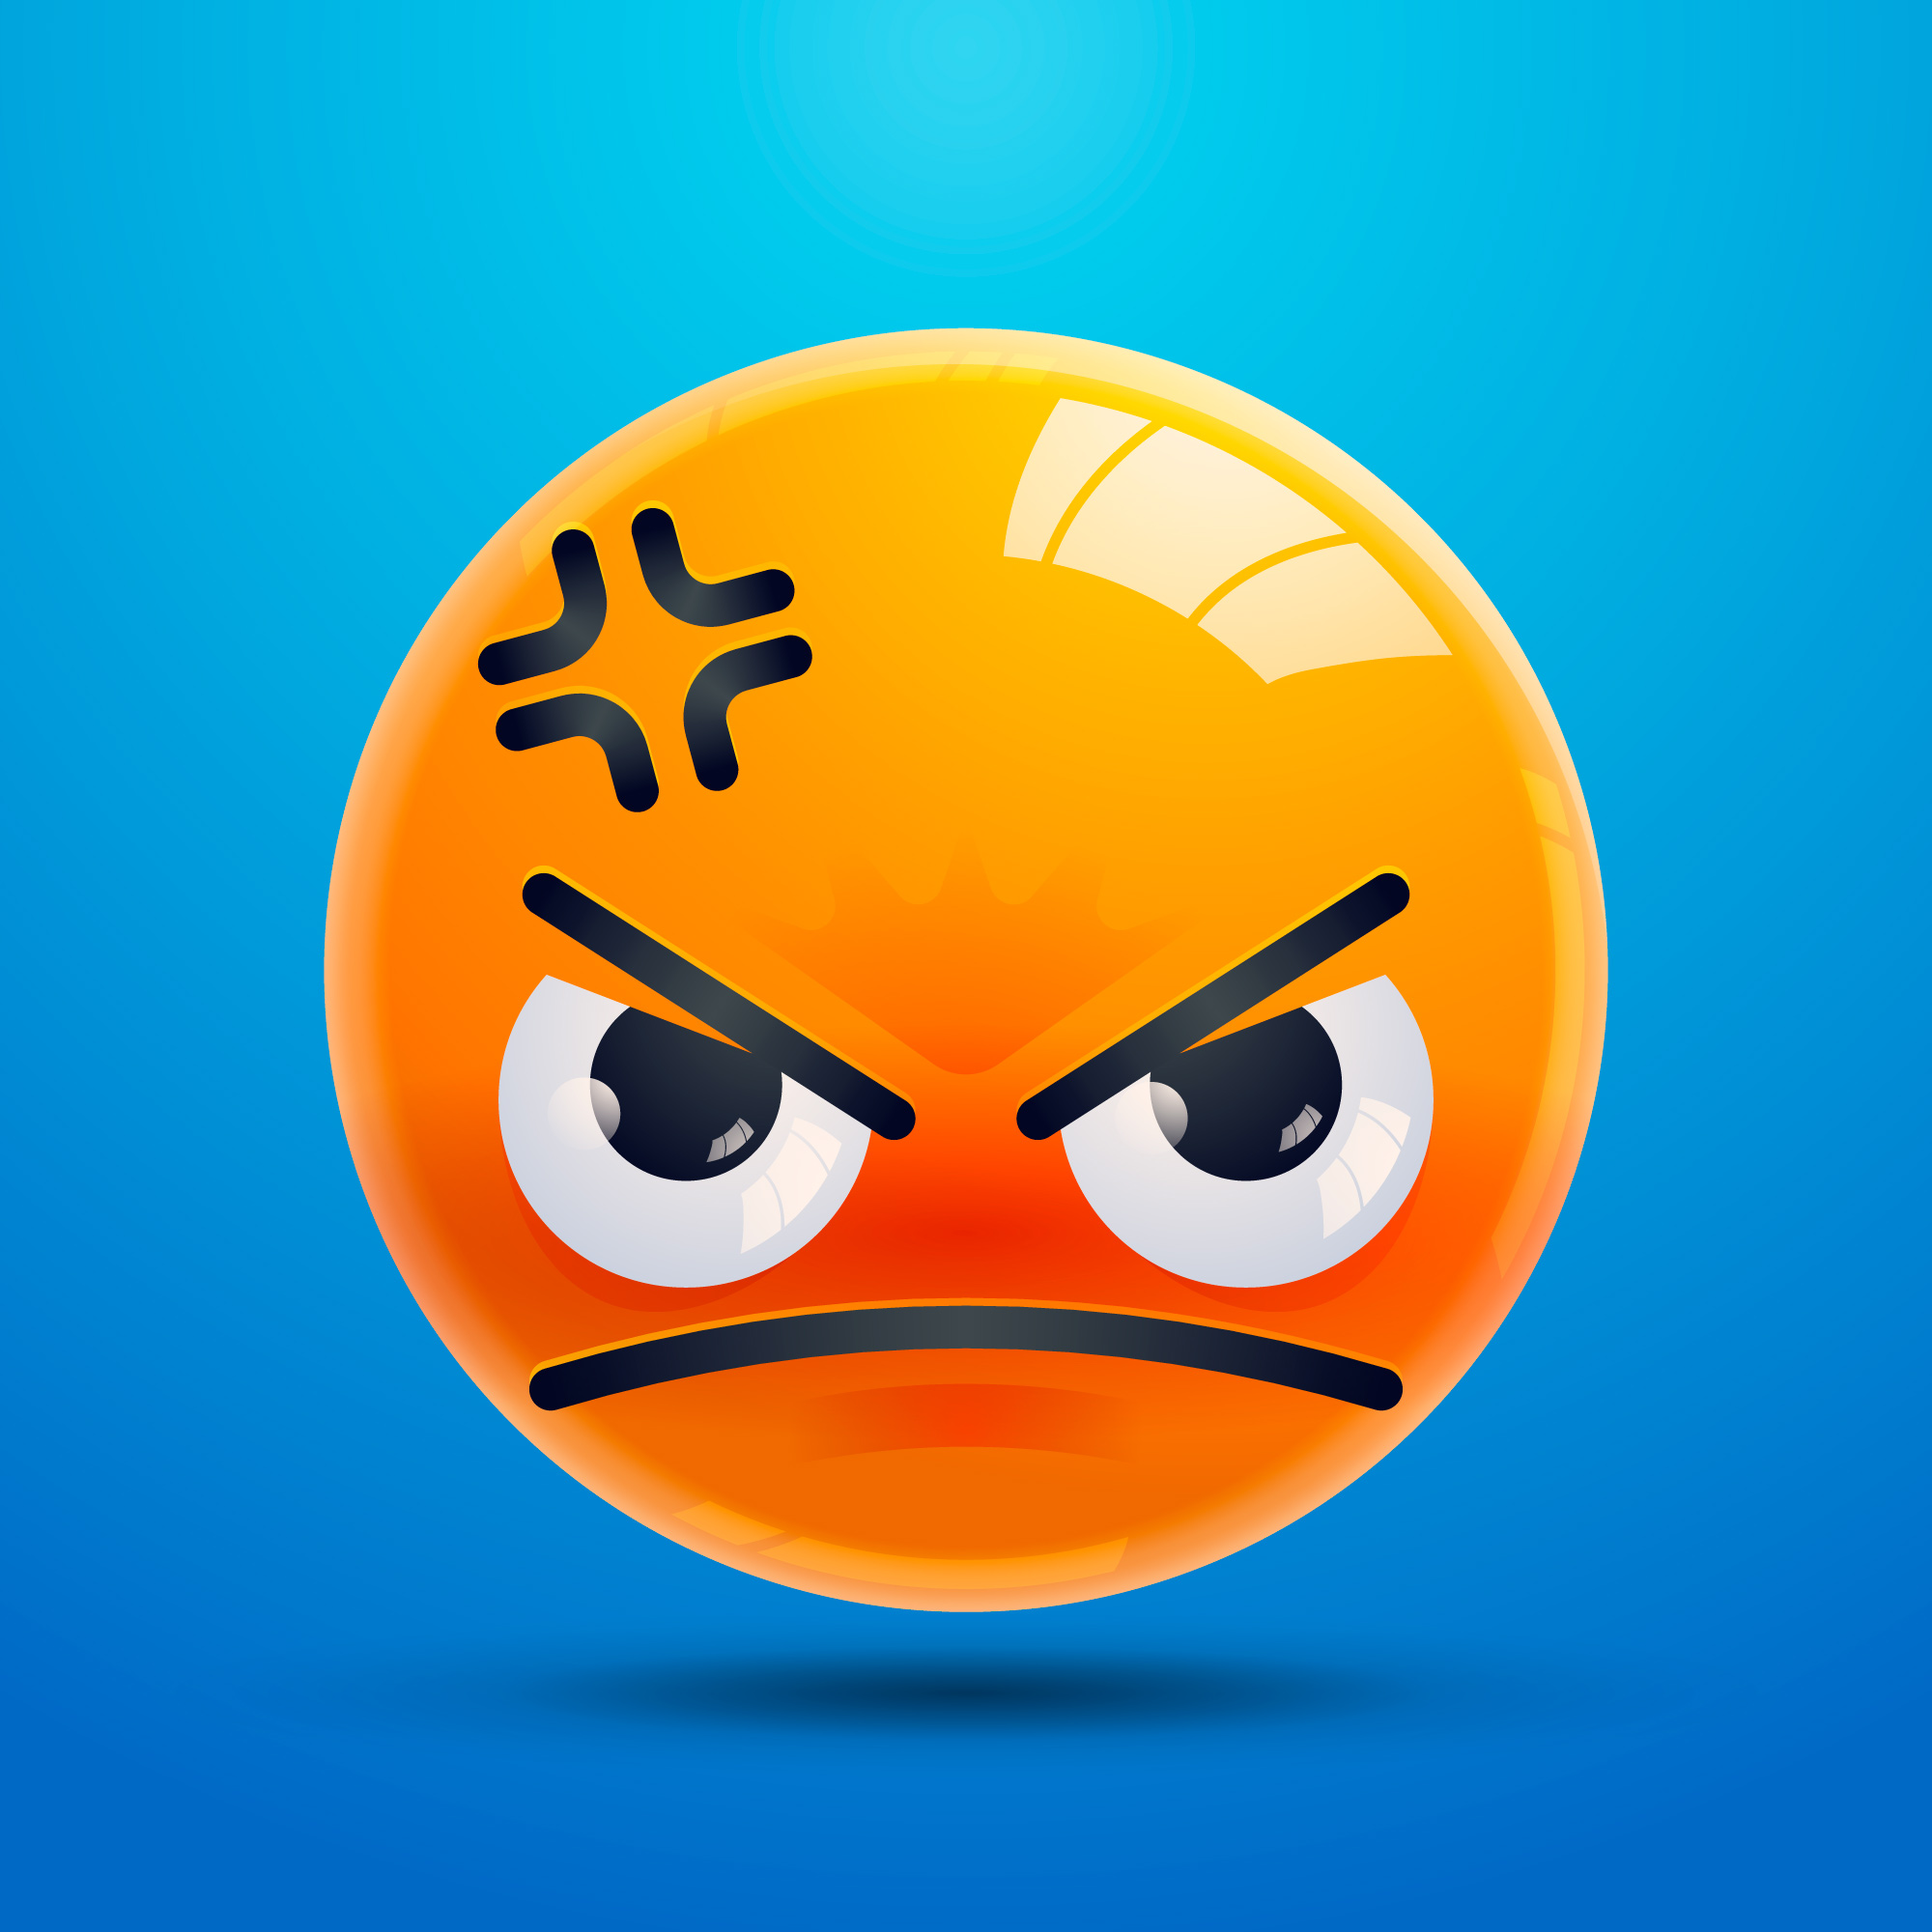face: (326, 331, 1609, 1619)
